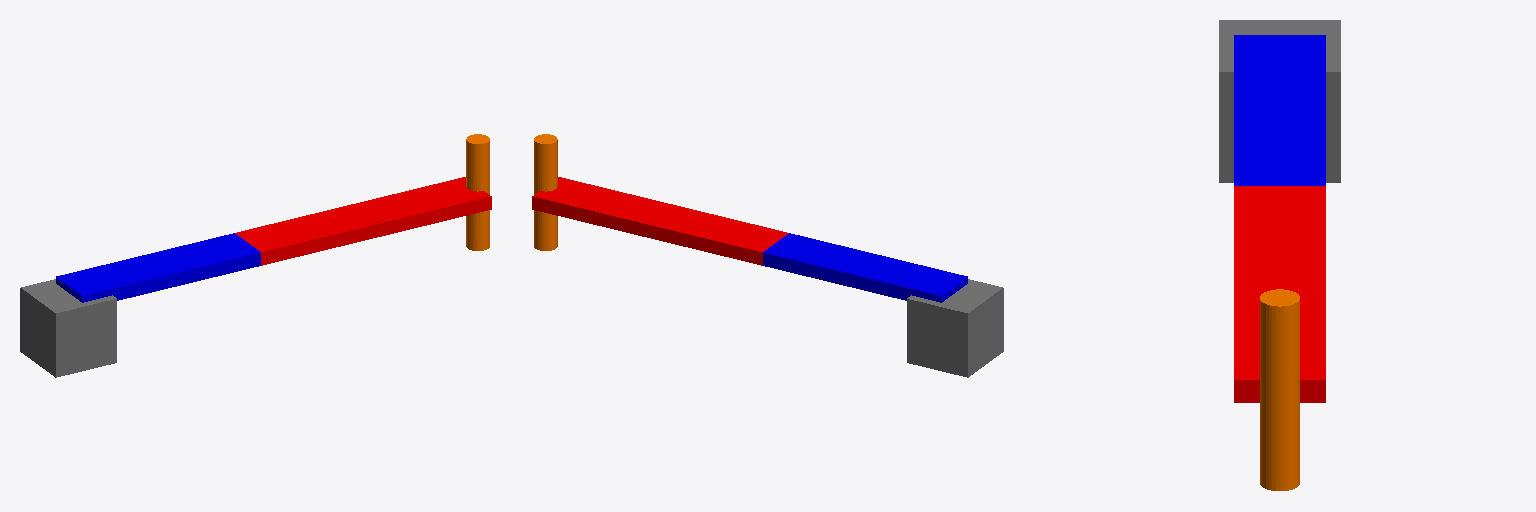
robot.urdf — scara_robot:
<?xml version="1.0"?>
<robot name="scara_robot">

  <!-- Base Link -->
  <link name="base_link">
    <visual>
      <geometry>
        <box size="0.12 0.12 0.12"/>
      </geometry>
      <origin xyz="0 0 0" rpy="0 0 0"/>
      <material name="gray">
        <color rgba="0.5 0.5 0.5 1"/>
      </material>
    </visual>
  </link>

  <!-- Link 1 (First arm segment) -->
  <link name="link1">
    <visual>
      <geometry>
        <box size="0.350 0.09 0.025"/>
      </geometry>
      <origin xyz="0.175 0 0" rpy="0 0 0"/>
      <material name="blue">
        <color rgba="0 0 1 1"/>
      </material>
    </visual>
  </link>

  <!-- Link 2 (Second arm segment) -->
  <link name="link2">
    <visual>
      <geometry>
        <box size="0.450 0.09 0.025"/>
      </geometry>
      <origin xyz="0.225 0 0" rpy="0 0 0"/>
      <material name="red">
        <color rgba="1 0 0 1"/>
      </material>
    </visual>
  </link>

  <!-- Link End Effector -->
  <link name="link_end_effector">
    <visual>
      <geometry>
        <cylinder radius="0.02" length="0.2"/>
      </geometry>
      <origin xyz="0 0 0.1" rpy="0 0 0"/>
      <material name="orange">
        <color rgba="1 0.5 0 1"/>
      </material>
    </visual>
  </link>

  <!-- Joint 1: Base to Link 1 (θ1) -->
  <joint name="joint1" type="revolute">
    <parent link="base_link"/>
    <child link="link1"/>
    <origin xyz="0 0 0.06" rpy="0 0 0"/>
    <axis xyz="0 0 1"/>
    <limit lower="-3.14" upper="3.14" effort="10" velocity="1"/>
    <dynamics damping="0.1" friction="0.1"/>
  </joint>

  <!-- Joint 2: Link 1 to Link 2 (θ2) -->
  <joint name="joint2" type="revolute">
    <parent link="link1"/>
    <child link="link2"/>
    <origin xyz="0.35 0 0" rpy="0 0 0"/>
    <axis xyz="0 0 1"/>
    <limit lower="-3.14" upper="3.14" effort="8" velocity="1"/>
    <dynamics damping="0.1" friction="0.1"/>
  </joint>

  <!-- End Effector: Link 2 to End Effector (d3 - Prismatic) -->
  <joint name="end_effector" type="prismatic">
    <parent link="link2"/>
    <child link="link_end_effector"/>
    <origin xyz="0.45 0 0" rpy="0 0 0"/>
    <axis xyz="0 0 -1"/>
    <limit lower="0.038" upper="0.16" effort="5" velocity="0.2"/>
    <dynamics damping="0.1" friction="0.1"/>
  </joint>

</robot>

--- What the picture shows (computed from the rendered views, not written in the file) ---
3 views of the same robot in one strip: view 1: azimuth 30°, elevation 25°; view 2: azimuth 150°, elevation 25°; view 3: azimuth 270°, elevation 25° (orthographic).
Robot: scara_robot — 4 links, 3 joints (2 revolute, 1 prismatic); root link base_link; default pose: all joints at 0 but 1 set to mid-range because 0 is outside their limits (end_effector = 0.099).
Links seen in each view (by area): view 1: link2, base_link, link1, link_end_effector; view 2: link2, base_link, link1, link_end_effector; view 3: link2, link1, link_end_effector, base_link.
Boxes of the visible links, left/top/right/bottom form: link2: left=235, top=177, right=491, bottom=265; base_link: left=20, top=279, right=116, bottom=377; link1: left=56, top=233, right=260, bottom=302; link_end_effector: left=466, top=134, right=489, bottom=250; link2: left=532, top=177, right=788, bottom=265; base_link: left=907, top=279, right=1003, bottom=377; link1: left=763, top=233, right=967, bottom=302; link_end_effector: left=534, top=134, right=557, bottom=250; link2: left=1234, top=186, right=1325, bottom=402; link1: left=1234, top=35, right=1325, bottom=185; link_end_effector: left=1260, top=289, right=1299, bottom=490; base_link: left=1219, top=20, right=1340, bottom=182.
Bounding box of the posed robot: 0.88 × 0.12 × 0.221 m (x, y, z).
Geometry: primitives only (box / cylinder / sphere), no mesh files.
